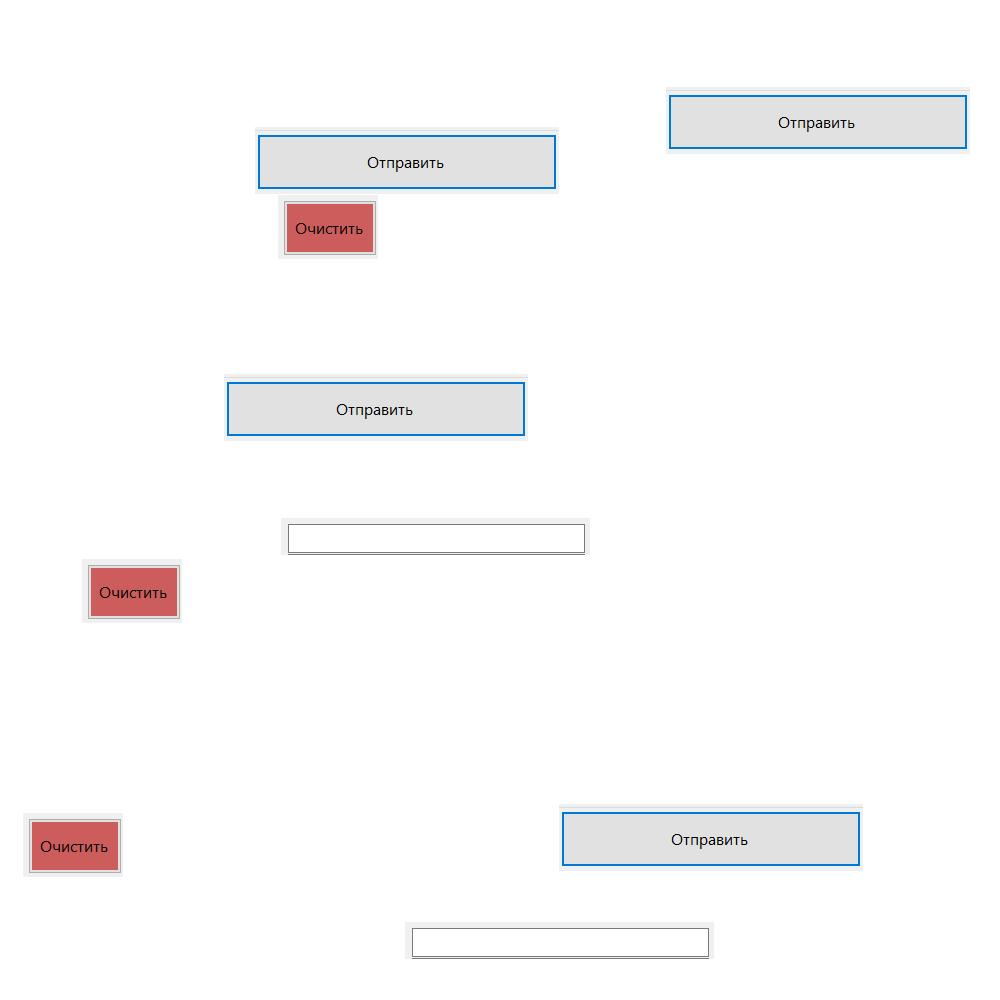Button: (255, 127, 559, 194), (224, 374, 528, 441), (666, 87, 970, 154), (559, 804, 863, 871), (278, 195, 378, 259), (82, 559, 182, 623), (23, 813, 123, 877)
EditText-: (405, 922, 714, 959), (281, 518, 590, 555)
